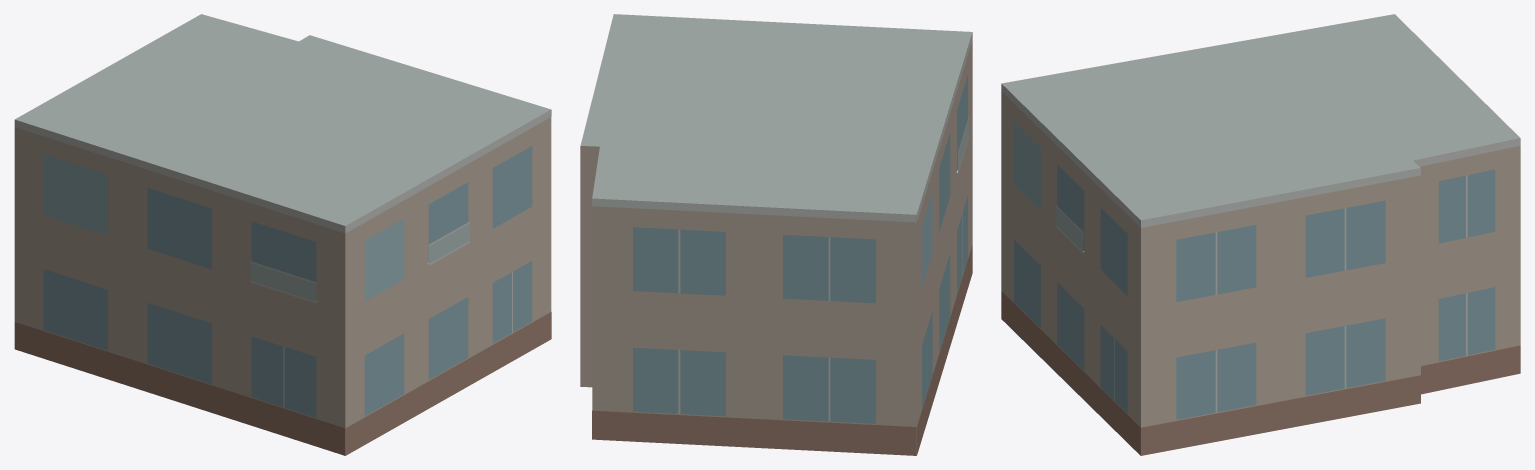
File: survey-upis-32681235.glb
3 views of the same model, side by side, from view 1: azimuth 30°, elevation 25°; view 2: azimuth 150°, elevation 25°; view 3: azimuth 270°, elevation 25° (orthographic). The views are drawn at different scales.
Parts seen in each view (by area): view 1: survey-upis-32681235.tmp; view 2: survey-upis-32681235.tmp; view 3: survey-upis-32681235.tmp.
Part boxes in pixels (x1,y1,x2,y2): survey-upis-32681235.tmp: (14, 14, 551, 455); survey-upis-32681235.tmp: (580, 14, 972, 455); survey-upis-32681235.tmp: (1001, 14, 1520, 455).
Size of the model in its own units: 14.3 by 7.6 by 15.2.
